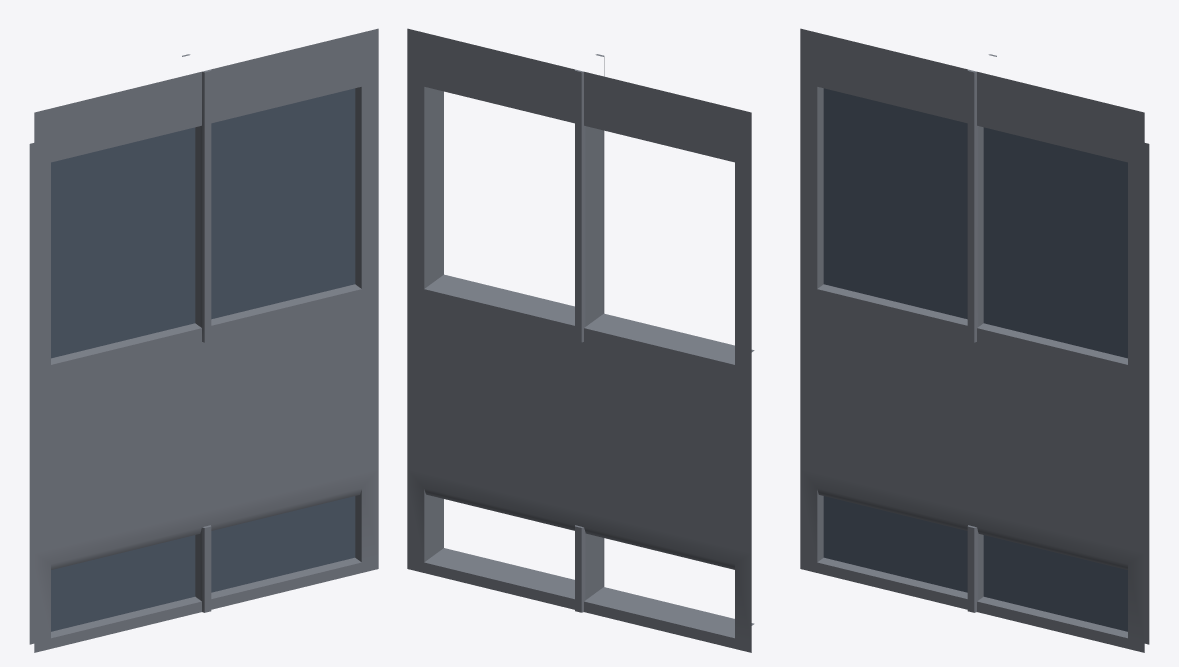
File: env_block_metal_window_half.glb
The picture shows the model from 3 angles, left to right: view 1: azimuth 30°, elevation 25°; view 2: azimuth 150°, elevation 25°; view 3: azimuth 330°, elevation 25°; orthographic projection.
Visible parts, largest first — view 1: part_0, part_1; view 2: part_0; view 3: part_0, part_1.
Boxes of the visible parts, <box> form: part_0: <box>29,28,378,652</box>; part_1: <box>51,88,355,631</box>; part_0: <box>407,28,754,652</box>; part_0: <box>800,28,1149,652</box>; part_1: <box>823,88,1127,631</box>.
Bounding box in the file's own units: 2 × 3 × 0.2286.
